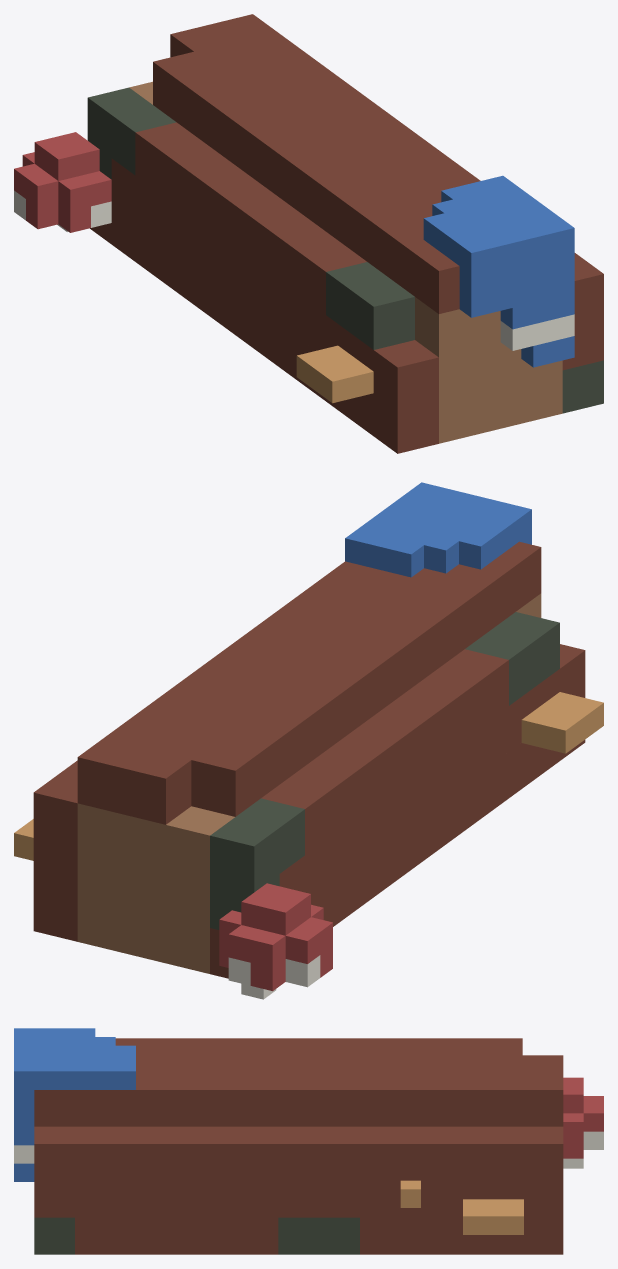
The model's file is house_lv1.fbx.
3 views of the same model, one above another, from view 1: azimuth 30°, elevation 25°; view 2: azimuth 150°, elevation 25°; view 3: azimuth 270°, elevation 25° (orthographic). The views are drawn at different scales.
Visible parts, largest first — view 1: Cylinder.033; view 2: Cylinder.033; view 3: Cylinder.033.
Part boxes in pixels (left/top/right/bottom): Cylinder.033: left=14, top=14, right=603, bottom=453; Cylinder.033: left=14, top=482, right=603, bottom=999; Cylinder.033: left=14, top=1028, right=603, bottom=1254.
Bounding box in the file's own units: 150 × 90.01 × 290.
